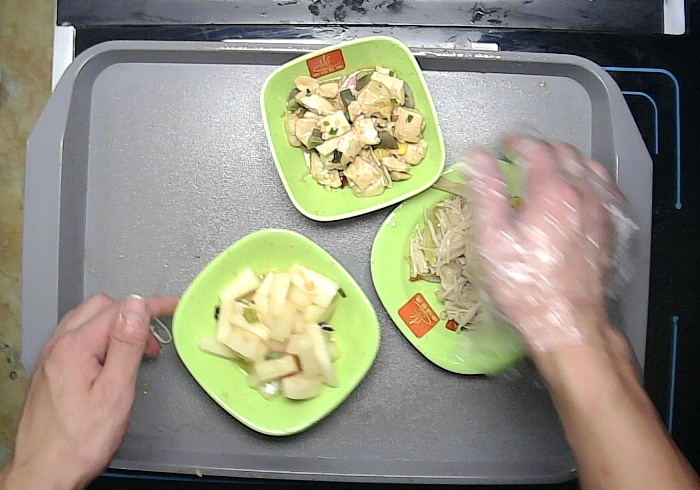SHKJ-Lv_Se_Cai_Die: (169, 227, 382, 437)
SHKJ-Lv_Se_Si_Fang_Cai_Die: (368, 161, 532, 376)
SHKJ-Lv_Se_Xiao_Fang_Die: (258, 34, 448, 221)
